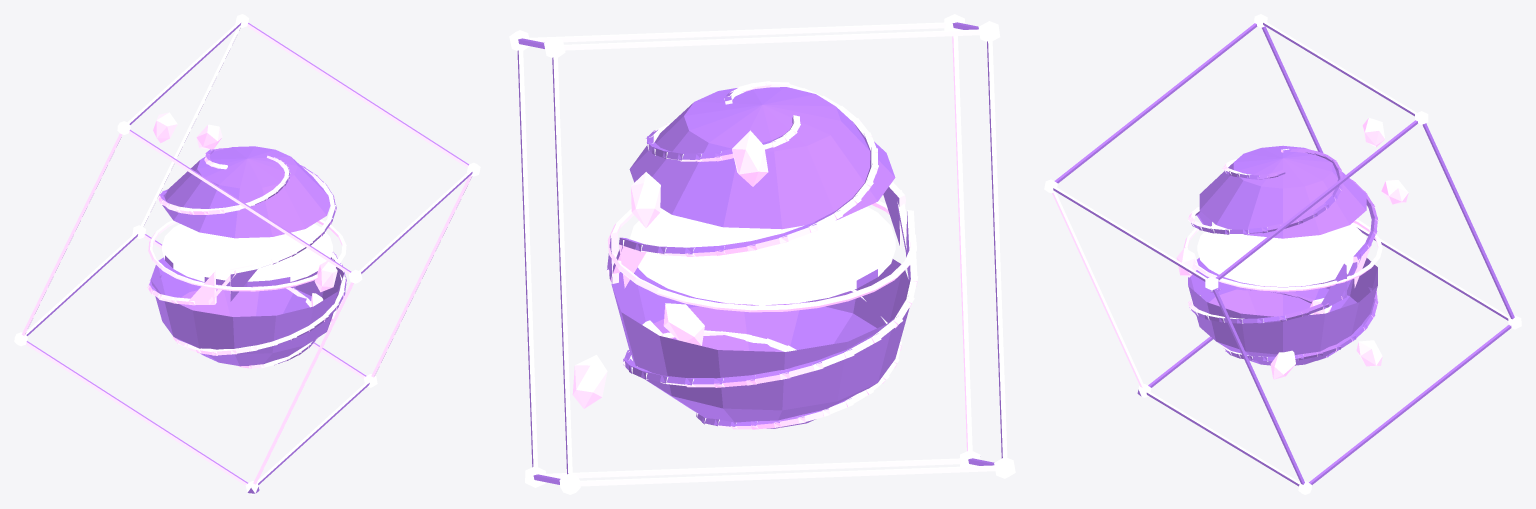
Rendered from fruto-espaco.glb.
3 renders of one model, left to right at view 1: azimuth 30°, elevation 25°; view 2: azimuth 150°, elevation 25°; view 3: azimuth 270°, elevation 25°, orthographic. The views are drawn at different scales.
Visible parts, largest first — view 1: Fruit_Body; view 2: Fruit_Body; view 3: Fruit_Body.
Boxes of the visible parts, x1,y1,x2,y2 form: Fruit_Body: [14, 14, 480, 494]; Fruit_Body: [509, 14, 1015, 494]; Fruit_Body: [1044, 14, 1521, 494].
Size of the model in its own units: 2.34 by 1.98 by 2.45.
